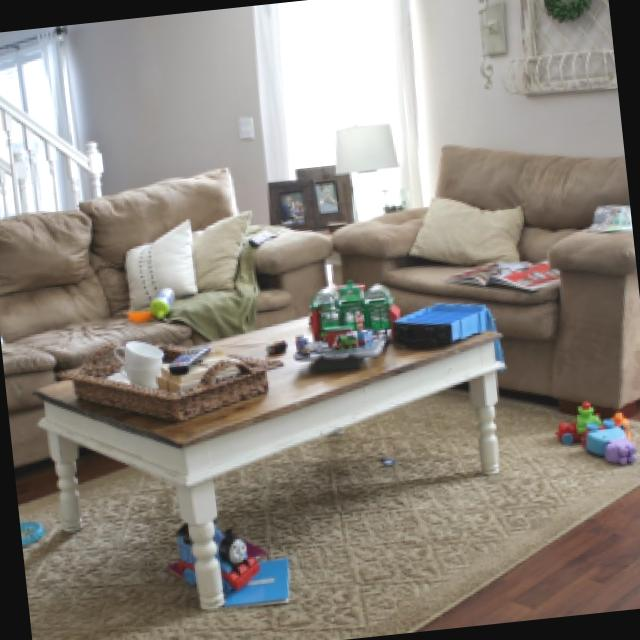mess: (18, 446, 640, 640), (113, 255, 484, 444), (0, 203, 342, 350), (390, 178, 636, 292), (493, 389, 640, 472)
